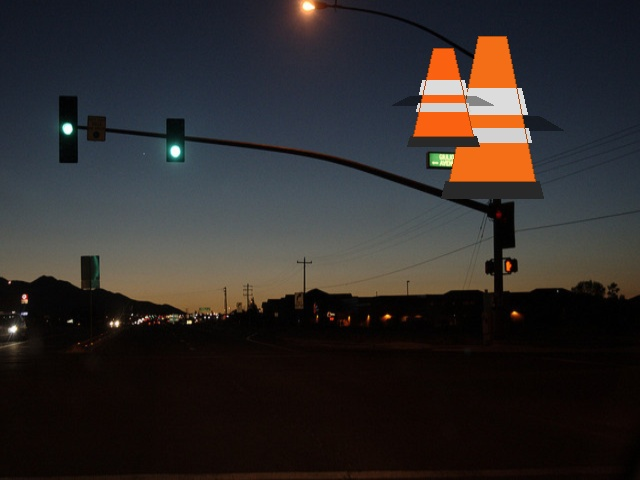traffic-cone: (441, 36, 543, 198), (407, 48, 479, 146)
